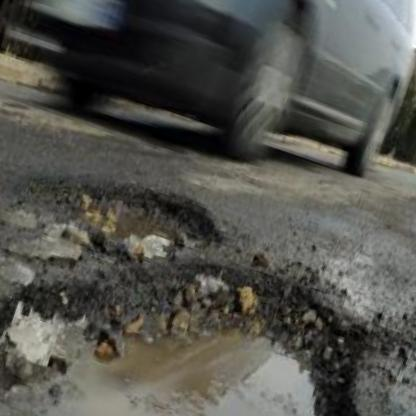pothole: (0, 157, 409, 416), (6, 140, 232, 291)
